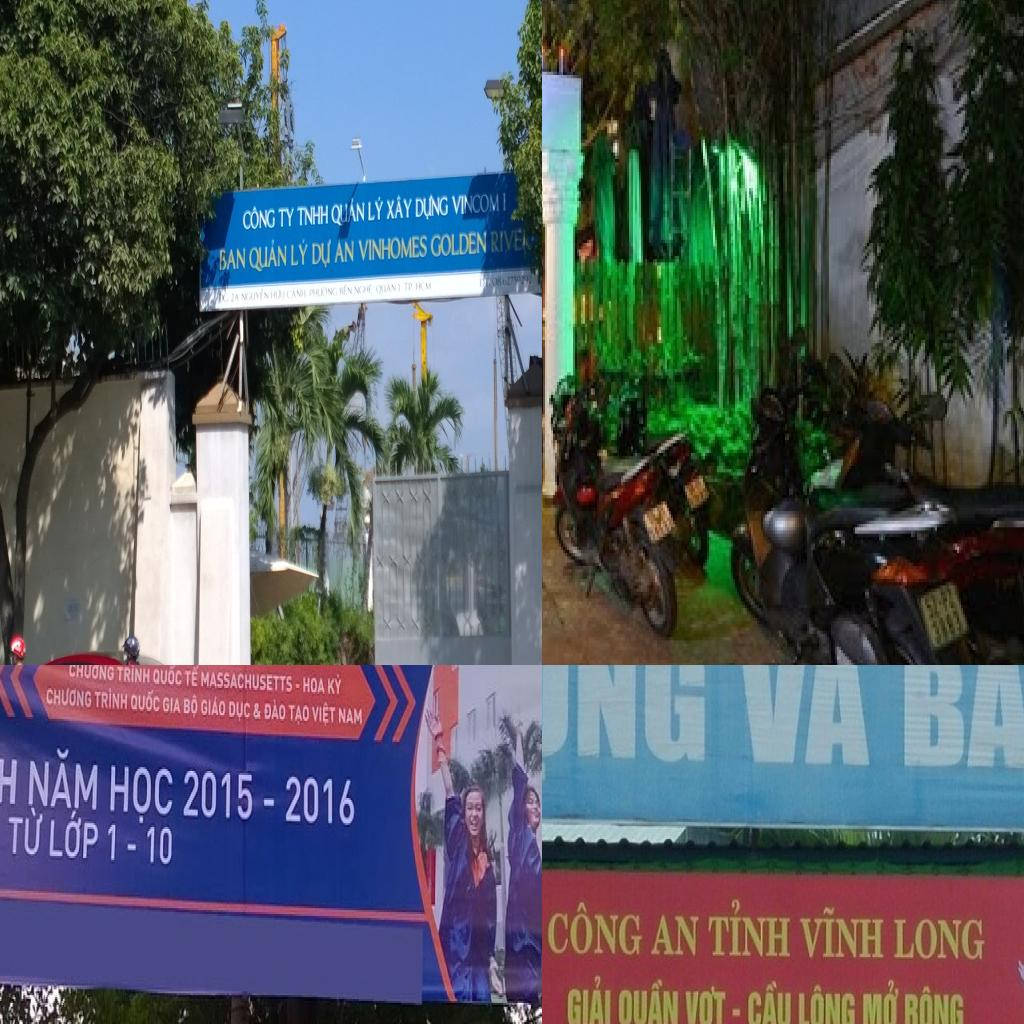text: (542, 665, 710, 789), (723, 665, 880, 779), (890, 665, 1024, 783), (543, 899, 646, 961), (705, 893, 794, 960), (24, 740, 102, 816), (797, 902, 887, 961), (889, 914, 987, 964), (182, 763, 258, 827), (284, 769, 360, 833), (107, 759, 177, 827), (613, 974, 683, 1024), (47, 810, 101, 868), (199, 666, 300, 694), (647, 910, 701, 961), (901, 984, 967, 1024), (796, 981, 857, 1024), (562, 974, 614, 1024), (356, 233, 429, 263), (746, 978, 793, 1024), (7, 806, 45, 862), (860, 974, 900, 1024), (683, 982, 729, 1024), (919, 582, 961, 624), (430, 229, 488, 259), (929, 608, 967, 650), (144, 825, 176, 872), (44, 684, 94, 713), (248, 238, 288, 274), (451, 190, 501, 218), (0, 746, 20, 811), (330, 195, 366, 230), (489, 226, 526, 257), (414, 192, 449, 223), (241, 203, 277, 233), (94, 686, 128, 717), (67, 665, 116, 686), (296, 201, 329, 229), (116, 665, 151, 690), (218, 244, 247, 274), (130, 690, 162, 717), (385, 194, 414, 223), (152, 665, 183, 692), (311, 700, 337, 732), (106, 820, 122, 870), (302, 672, 327, 700), (289, 239, 311, 270), (312, 237, 332, 271), (492, 273, 534, 289), (264, 698, 288, 726), (228, 698, 252, 724), (338, 704, 364, 728), (334, 237, 354, 266), (326, 672, 344, 704), (287, 704, 310, 728), (367, 194, 386, 223), (201, 698, 226, 720), (308, 282, 338, 300), (162, 694, 182, 719), (240, 288, 270, 304), (183, 665, 200, 692), (182, 694, 199, 721), (278, 205, 296, 230), (286, 284, 308, 301), (376, 280, 398, 296), (262, 792, 278, 814), (415, 278, 434, 294), (353, 282, 374, 296), (124, 839, 138, 860), (253, 700, 263, 724), (270, 286, 285, 300), (338, 282, 352, 297), (478, 276, 492, 290), (402, 280, 414, 294), (218, 291, 230, 304), (230, 290, 241, 304), (502, 188, 507, 216), (398, 282, 402, 293)
